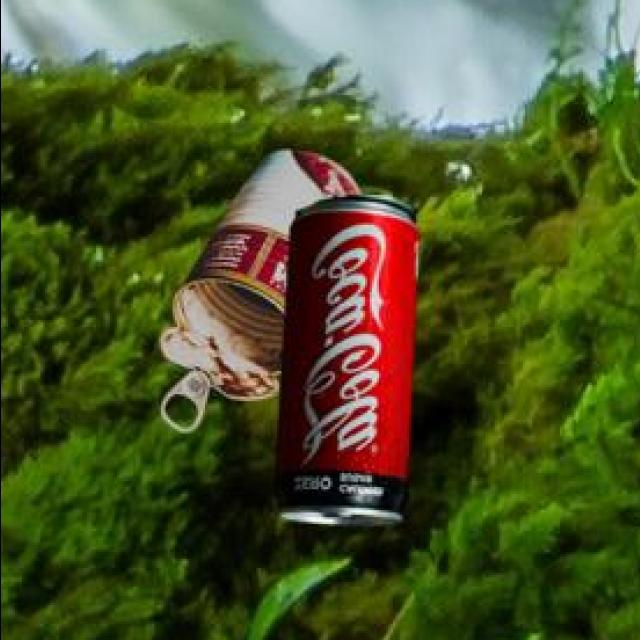logam: (157, 145, 356, 428), (272, 191, 414, 521)
